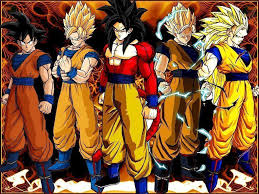Songoku: (109, 8, 140, 42), (63, 16, 93, 48), (13, 25, 43, 54), (169, 15, 197, 45), (223, 17, 248, 45)
